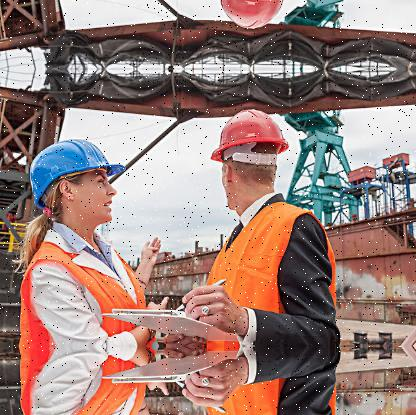helmet: (22, 125, 123, 233), (208, 100, 296, 208), (207, 0, 296, 37)
